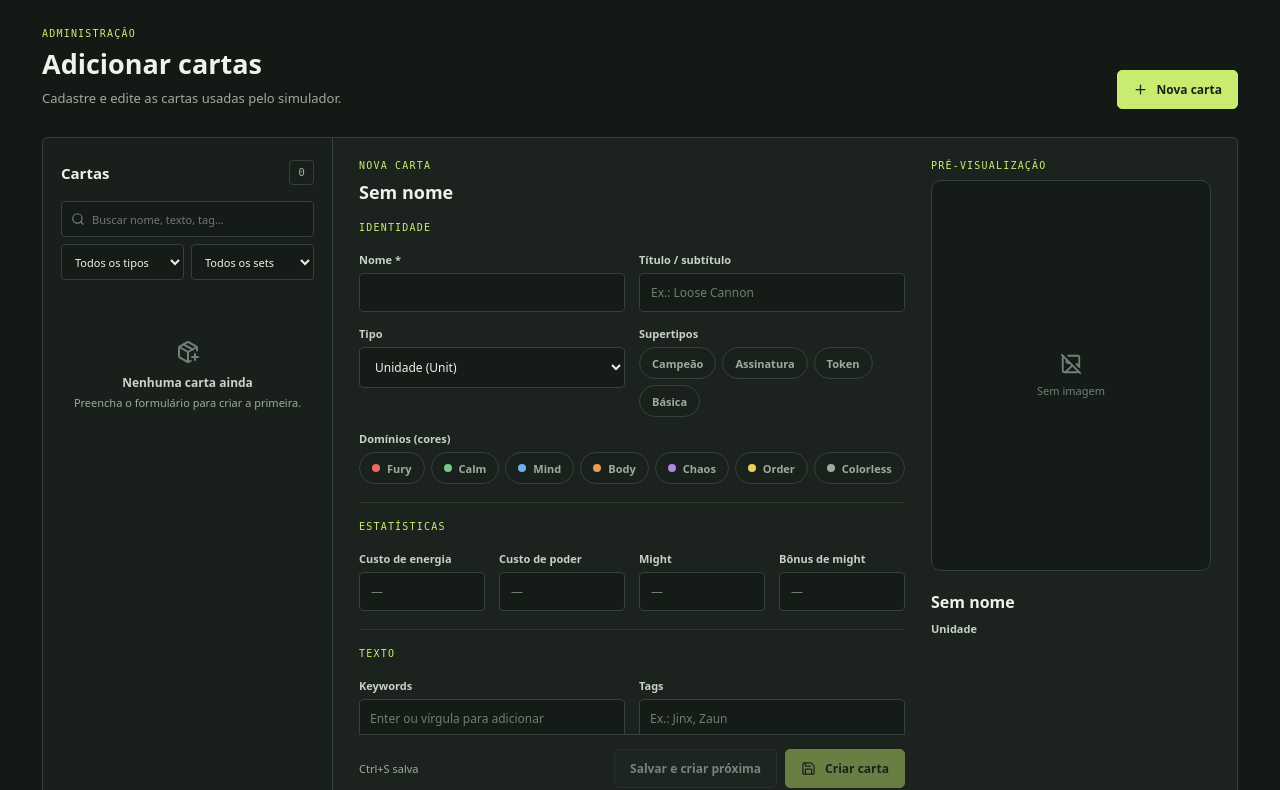
Test case: AddCardsPage › keeps the set and advances the number after "save and next"
Check: the text "Nenhuma carta ainda" is shown, box x1=122 y1=374 x2=253 y2=390
In the field labelled "Nome *": coordinates (492, 293) x1=359 y1=273 x2=625 y2=312, type "Jinx"
(page scrolled)
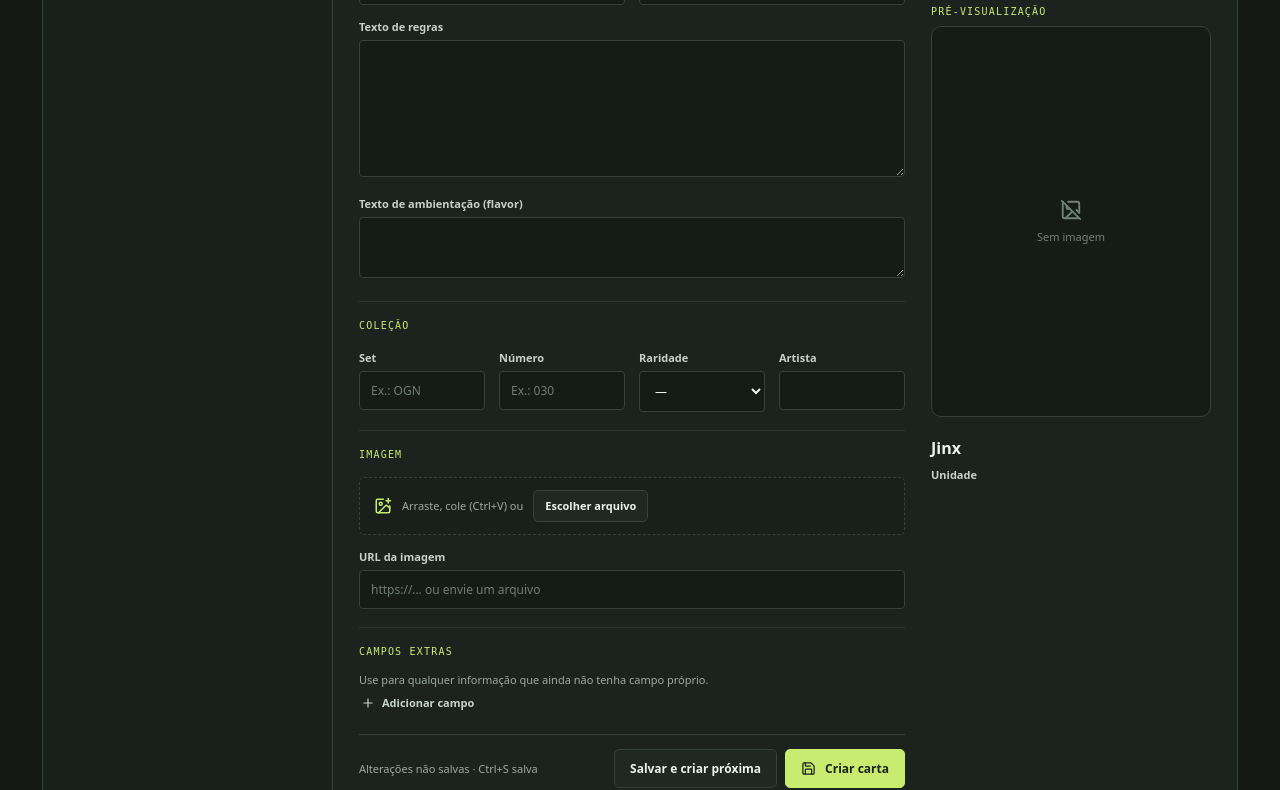
In the field labelled "Set": coordinates (422, 390) x1=359 y1=371 x2=485 y2=410, type "OGN"
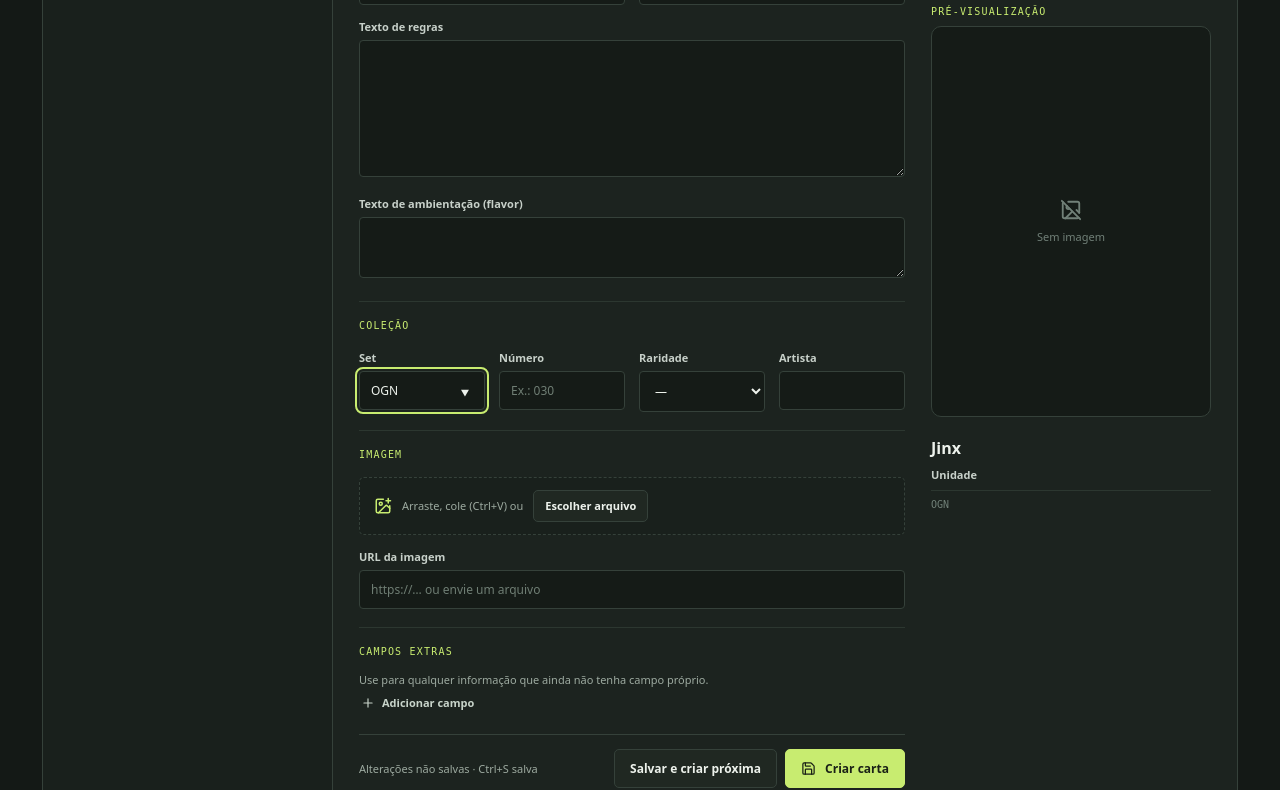
In the field labelled "Número": coordinates (562, 390) x1=499 y1=371 x2=625 y2=410, type "009"
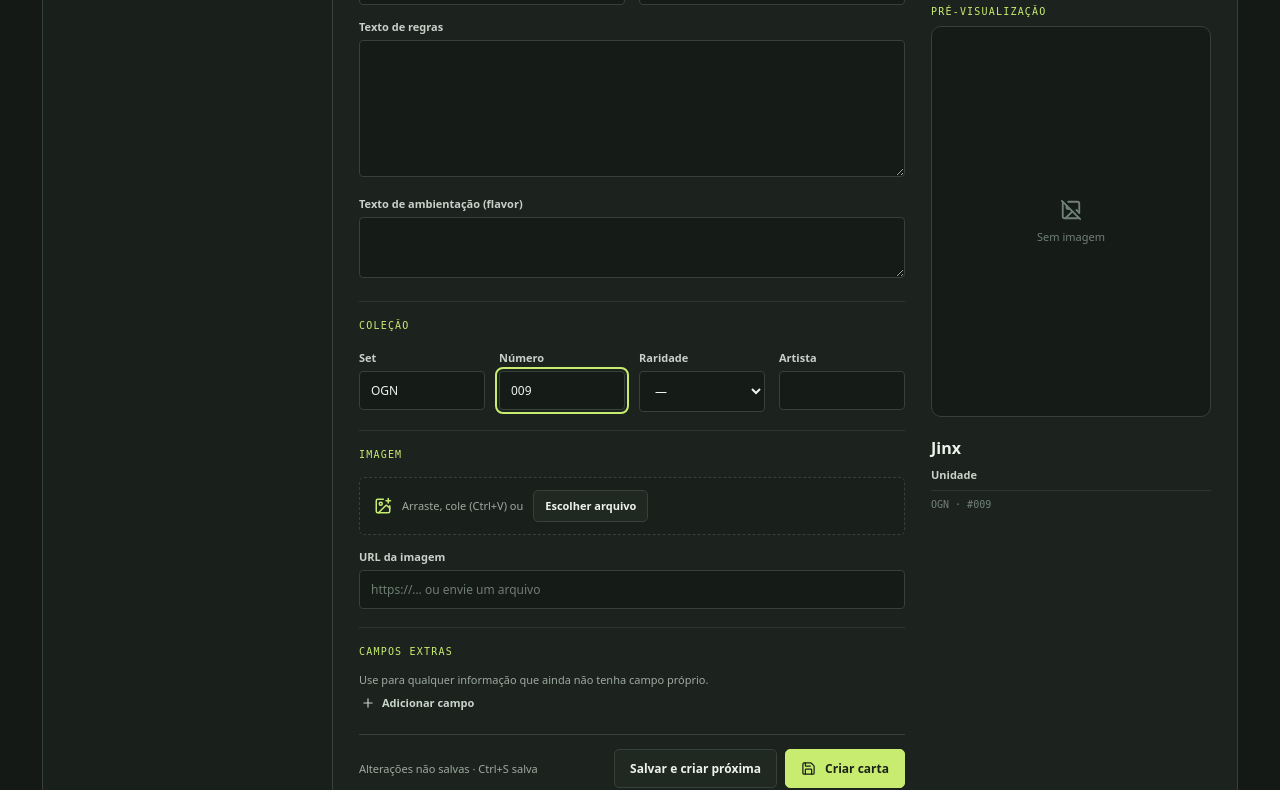
Click the button "Salvar e criar próxima": coordinates (696, 768) x1=614 y1=749 x2=777 y2=788
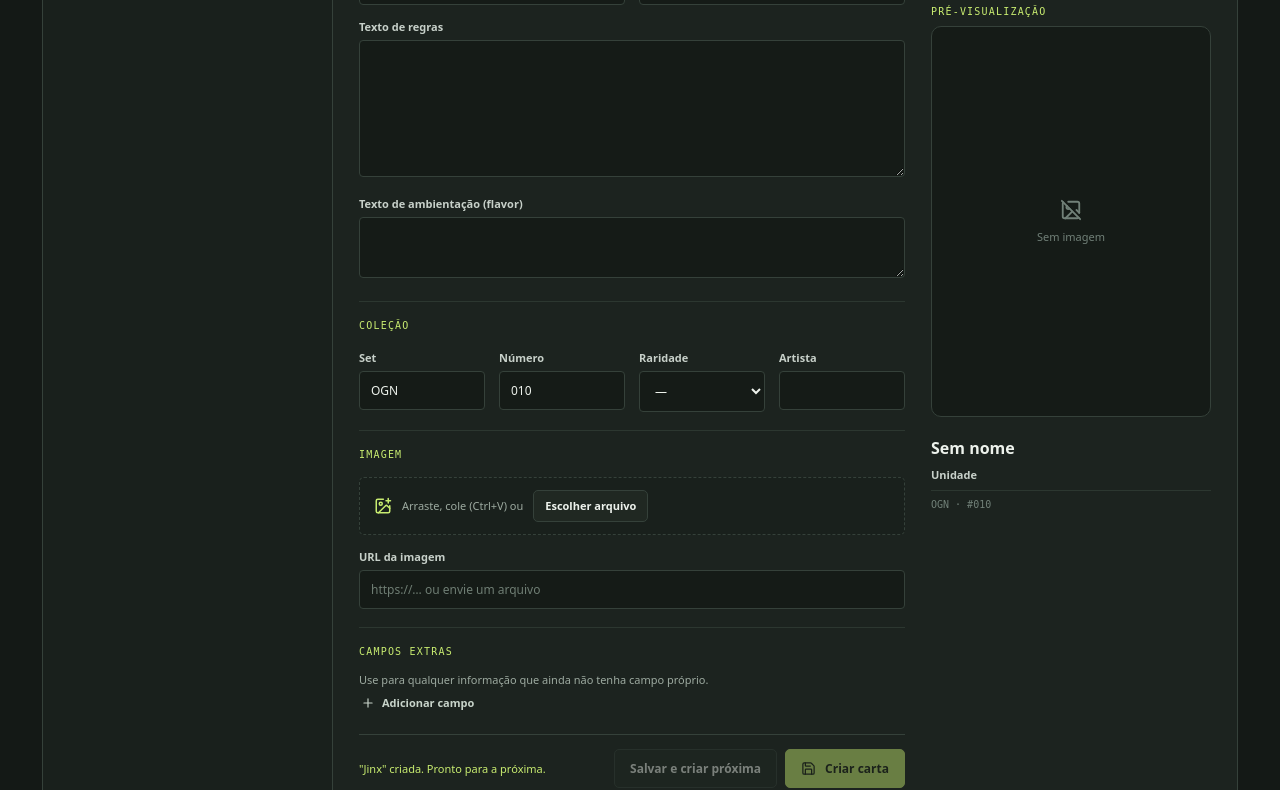
Check: the field labelled "Número" holds "010", box x1=499 y1=371 x2=625 y2=410
